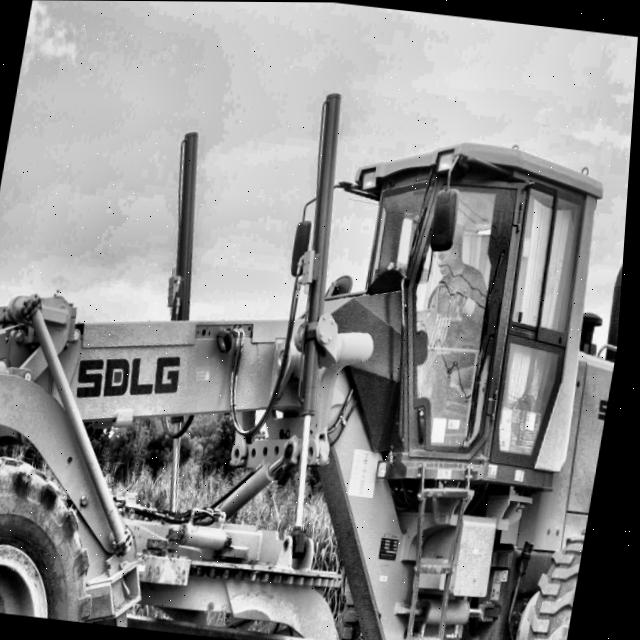buldozerpayloadergrader: (0, 35, 638, 640)
